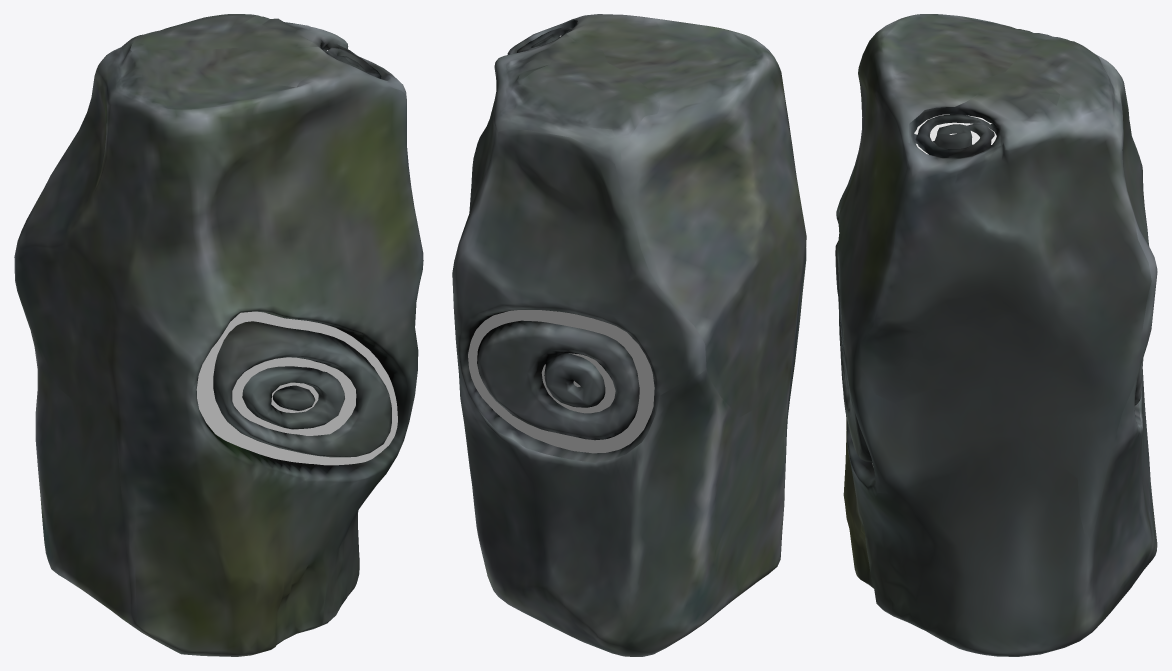
The model's file is StandingStone.fbx.
3 views of the same model, side by side, from view 1: azimuth 30°, elevation 25°; view 2: azimuth 150°, elevation 25°; view 3: azimuth 270°, elevation 25° (orthographic). The views are drawn at different scales.
Visible parts, largest first — view 1: Stone1, Plane.001, Plane; view 2: Stone1, Plane.002; view 3: Stone1, Plane.003.
Boxes of the visible parts, left/top/right/bottom form: Stone1: left=14, top=14, right=423, bottom=656; Plane.001: left=196, top=311, right=397, bottom=465; Plane: left=232, top=357, right=356, bottom=435; Stone1: left=452, top=14, right=806, bottom=656; Plane.002: left=468, top=310, right=654, bottom=453; Stone1: left=835, top=14, right=1157, bottom=656; Plane.003: left=914, top=114, right=996, bottom=154.
Size of the model in its own units: 88.44 by 162 by 86.84.
1 material, 1 textured.
